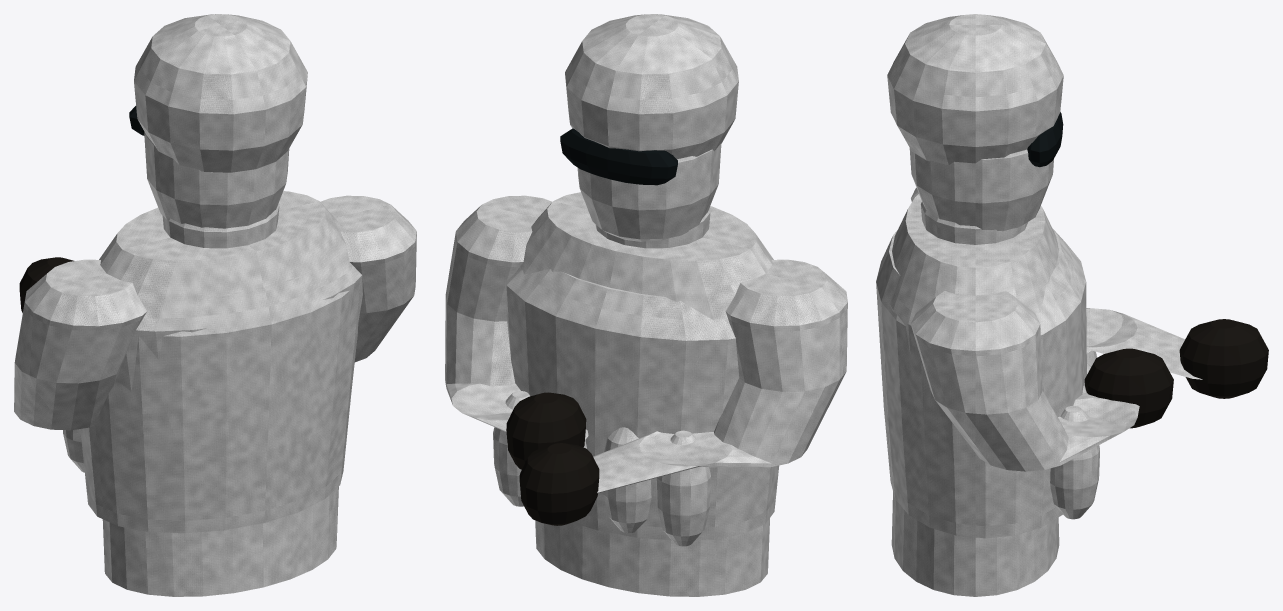
The model's file is FieldOperator.obj.
The picture shows the model from 3 angles, left to right: view 1: azimuth 30°, elevation 25°; view 2: azimuth 150°, elevation 25°; view 3: azimuth 270°, elevation 25°; orthographic projection. The views are drawn at different scales.
Bounding box in the file's own units: 0.783 × 1.03 × 0.703.
5 materials, 3 textured.
